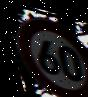Speed Limit -60-: (8, 10, 88, 97)
